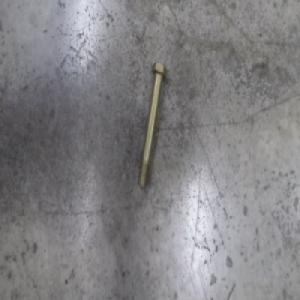Bolt: (137, 61, 168, 189)
